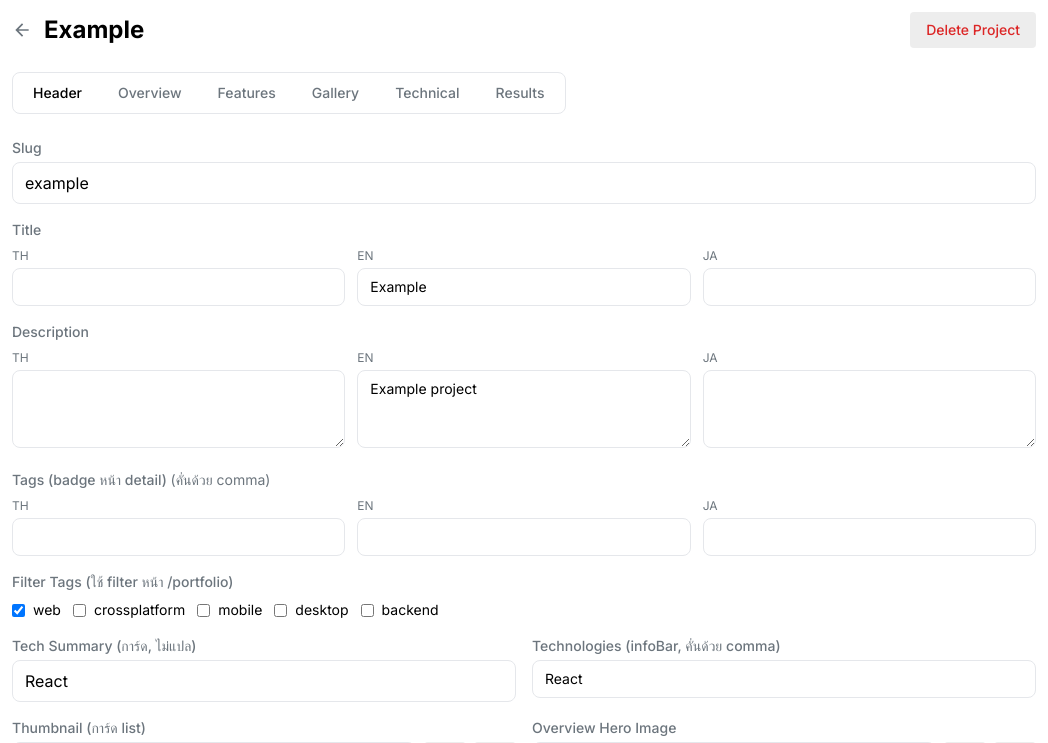
Test: Overview media editing and saving › defaults the admin selector to image for an existing project
Click the button "Overview" at [150, 93], box [102,77,198,109]
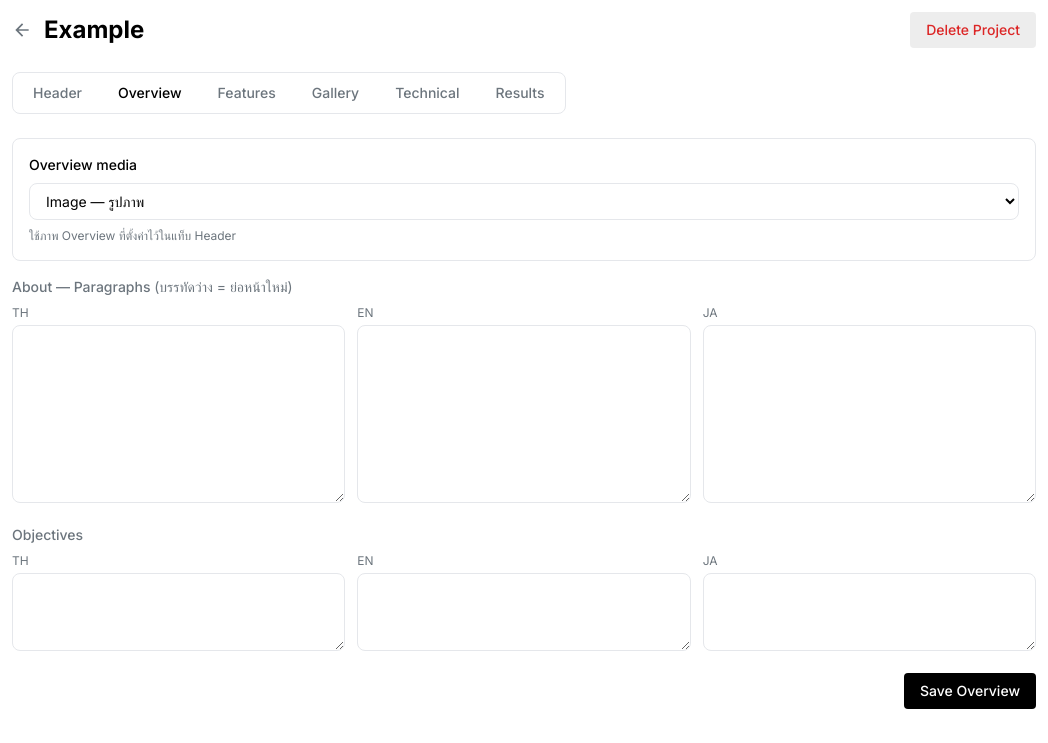
Result: the dropdown with id "overview-media-type" shows "Image — รูปภาพ" at [29,183,1019,220]
